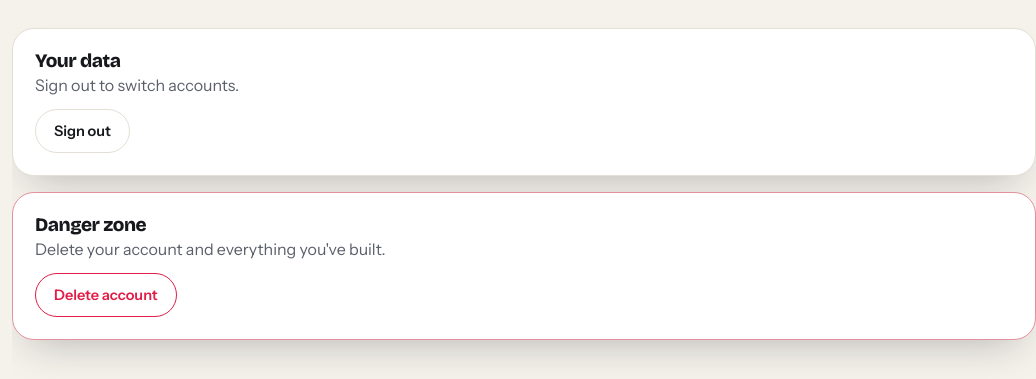
Scenario: DangerZonePanel › signs out and navigates home
The image size is (1036, 379).
Click the button "Sign out": [82, 131] box [35,109,130,153]
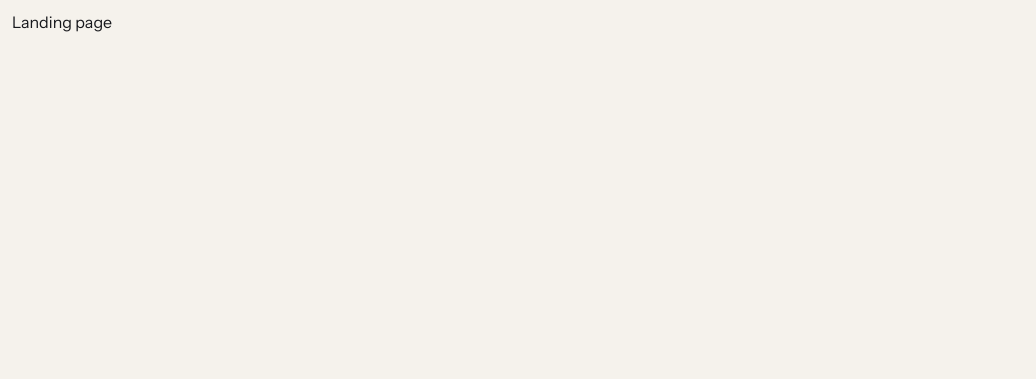
Check: the text "Landing page" is shown, box [12,12,112,32]
